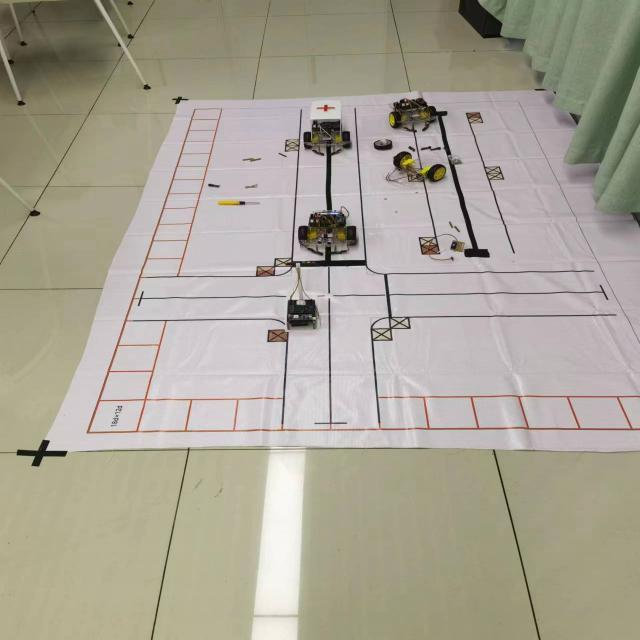RedCross: (314, 104, 336, 114)
